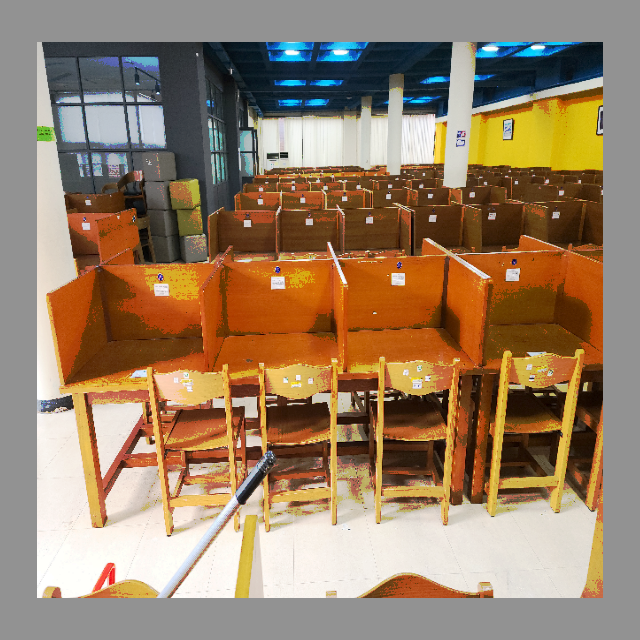empty: (59, 251, 205, 467), (214, 254, 346, 465), (352, 244, 486, 444)
